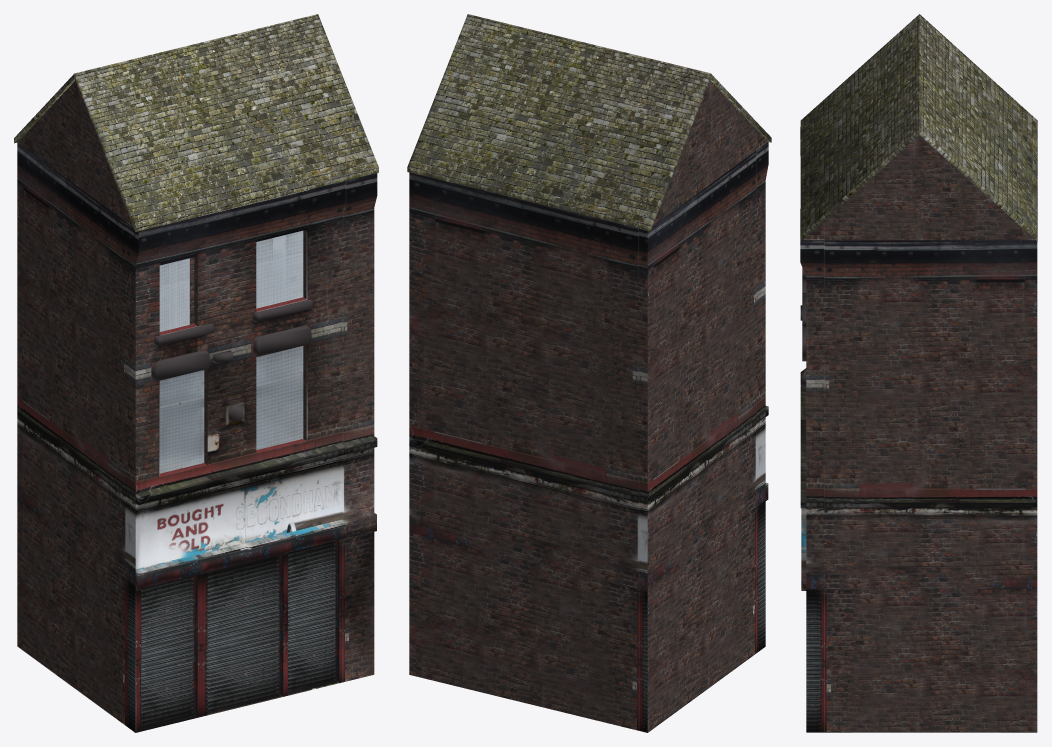
The model's file is building20.obj.
The picture shows the model from 3 angles, left to right: view 1: azimuth 30°, elevation 25°; view 2: azimuth 150°, elevation 25°; view 3: azimuth 270°, elevation 25°; orthographic projection. The views are drawn at different scales.
Visible parts, largest first — view 1: material25; view 2: material25; view 3: material25.
Part boxes in pixels (<box>): material25: <box>14,14,378,732</box>; material25: <box>407,14,771,732</box>; material25: <box>800,14,1037,732</box>.
Size of the model in its own units: 187 by 453 by 162.
Materials: 1 (1 with a texture image).
